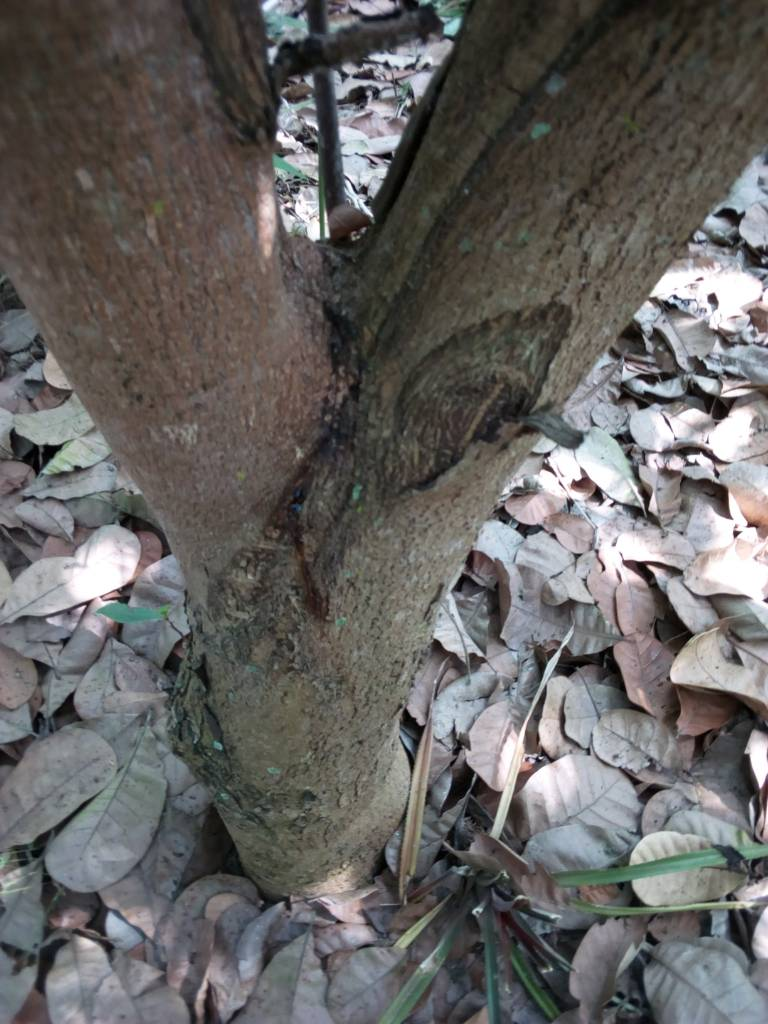ploceadorus ferrugineus: (342, 274, 592, 577)
